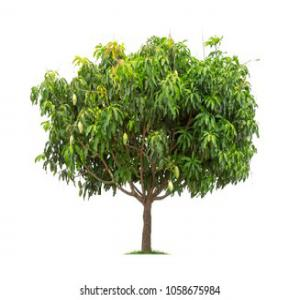Tree: (27, 32, 260, 248)
